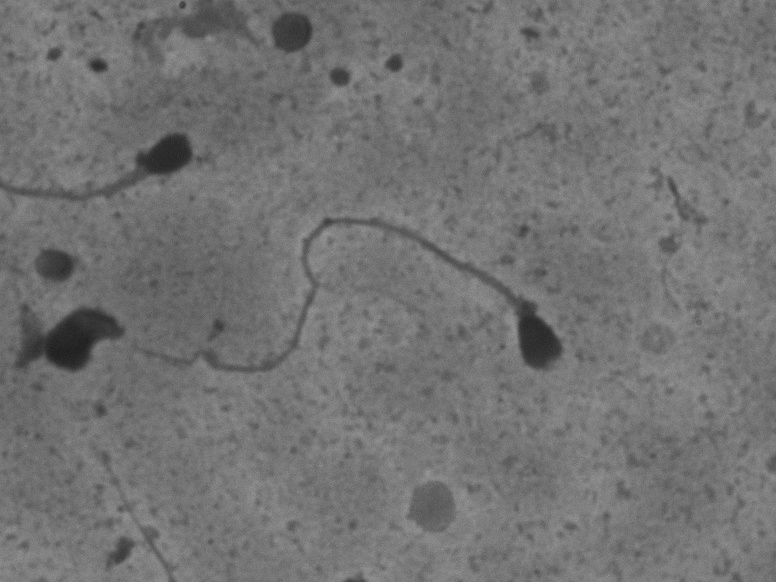Abnormal: (167, 193, 585, 430), (6, 109, 218, 219)
